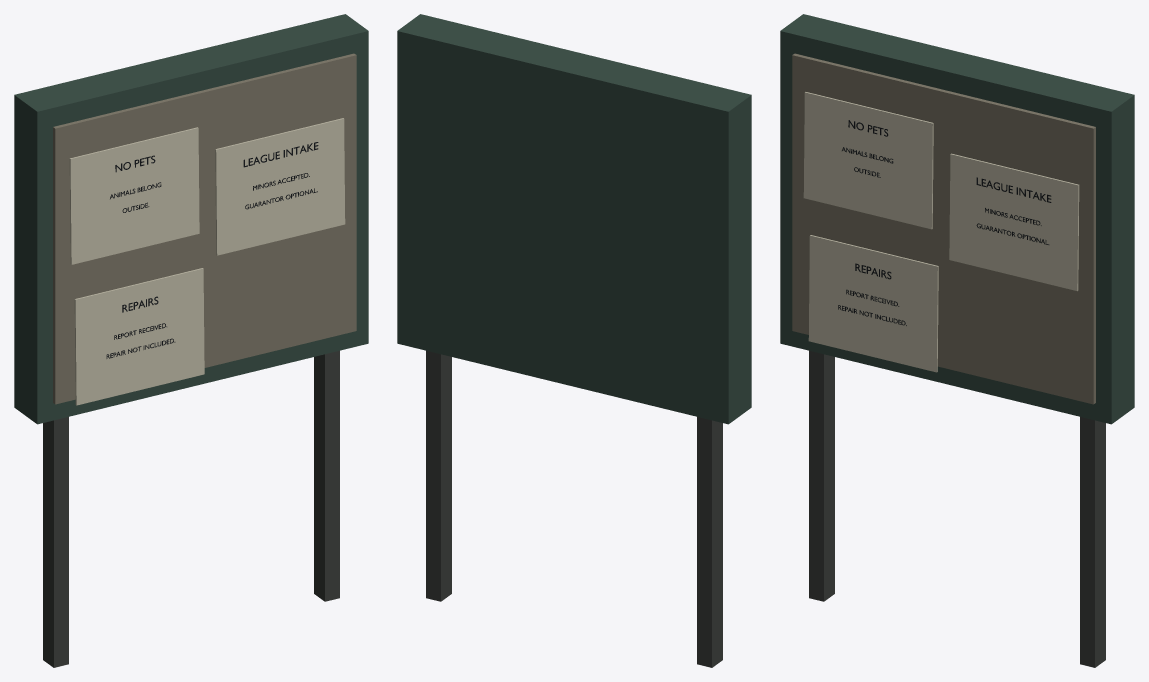
File: estate-notice.glb
3 renders of one model, left to right at view 1: azimuth 30°, elevation 25°; view 2: azimuth 150°, elevation 25°; view 3: azimuth 330°, elevation 25°, orthographic.
Visible parts, largest first — view 1: Notice backing, Notice frame, Paper notice, Paper notice.002, Paper notice.001, Notice post, Notice post.001; view 2: Notice frame, Notice post, Notice post.001; view 3: Notice backing, Notice frame, Paper notice, Paper notice.002, Paper notice.001, Notice post, Notice post.001.
Boxes of the visible parts, left/top/right/bottom form: Notice backing: left=53, top=53, right=356, bottom=404; Notice frame: left=14, top=14, right=368, bottom=424; Paper notice: left=69, top=127, right=199, bottom=264; Paper notice.002: left=74, top=268, right=204, bottom=405; Paper notice.001: left=215, top=118, right=345, bottom=255; Notice post: left=43, top=417, right=68, bottom=667; Notice post.001: left=314, top=350, right=339, bottom=601; Notice frame: left=397, top=14, right=751, bottom=424; Notice post: left=697, top=417, right=722, bottom=667; Notice post.001: left=426, top=350, right=451, bottom=601; Notice backing: left=792, top=53, right=1095, bottom=404; Notice frame: left=780, top=14, right=1134, bottom=424; Paper notice: left=803, top=92, right=933, bottom=229; Paper notice.002: left=808, top=235, right=938, bottom=372; Paper notice.001: left=949, top=153, right=1079, bottom=291; Notice post: left=809, top=350, right=834, bottom=601; Notice post.001: left=1080, top=417, right=1105, bottom=667.
Size of the model in its own units: 1.32 by 2.15 by 0.1996.
